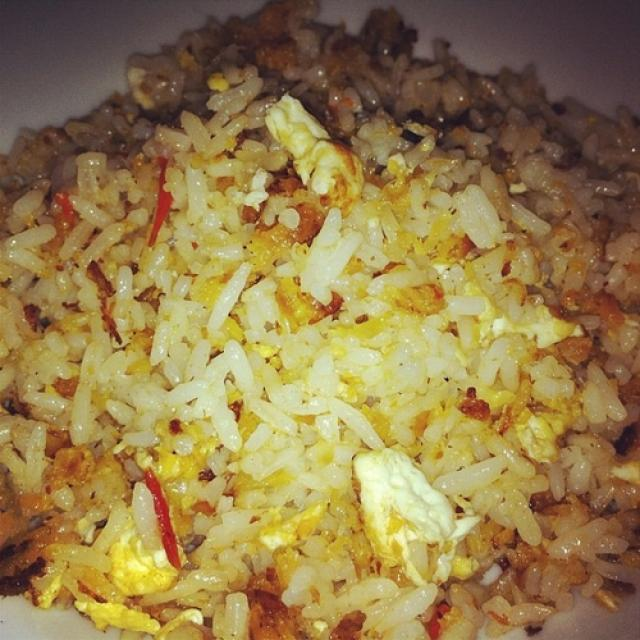米饭主食: (19, 23, 616, 618)
